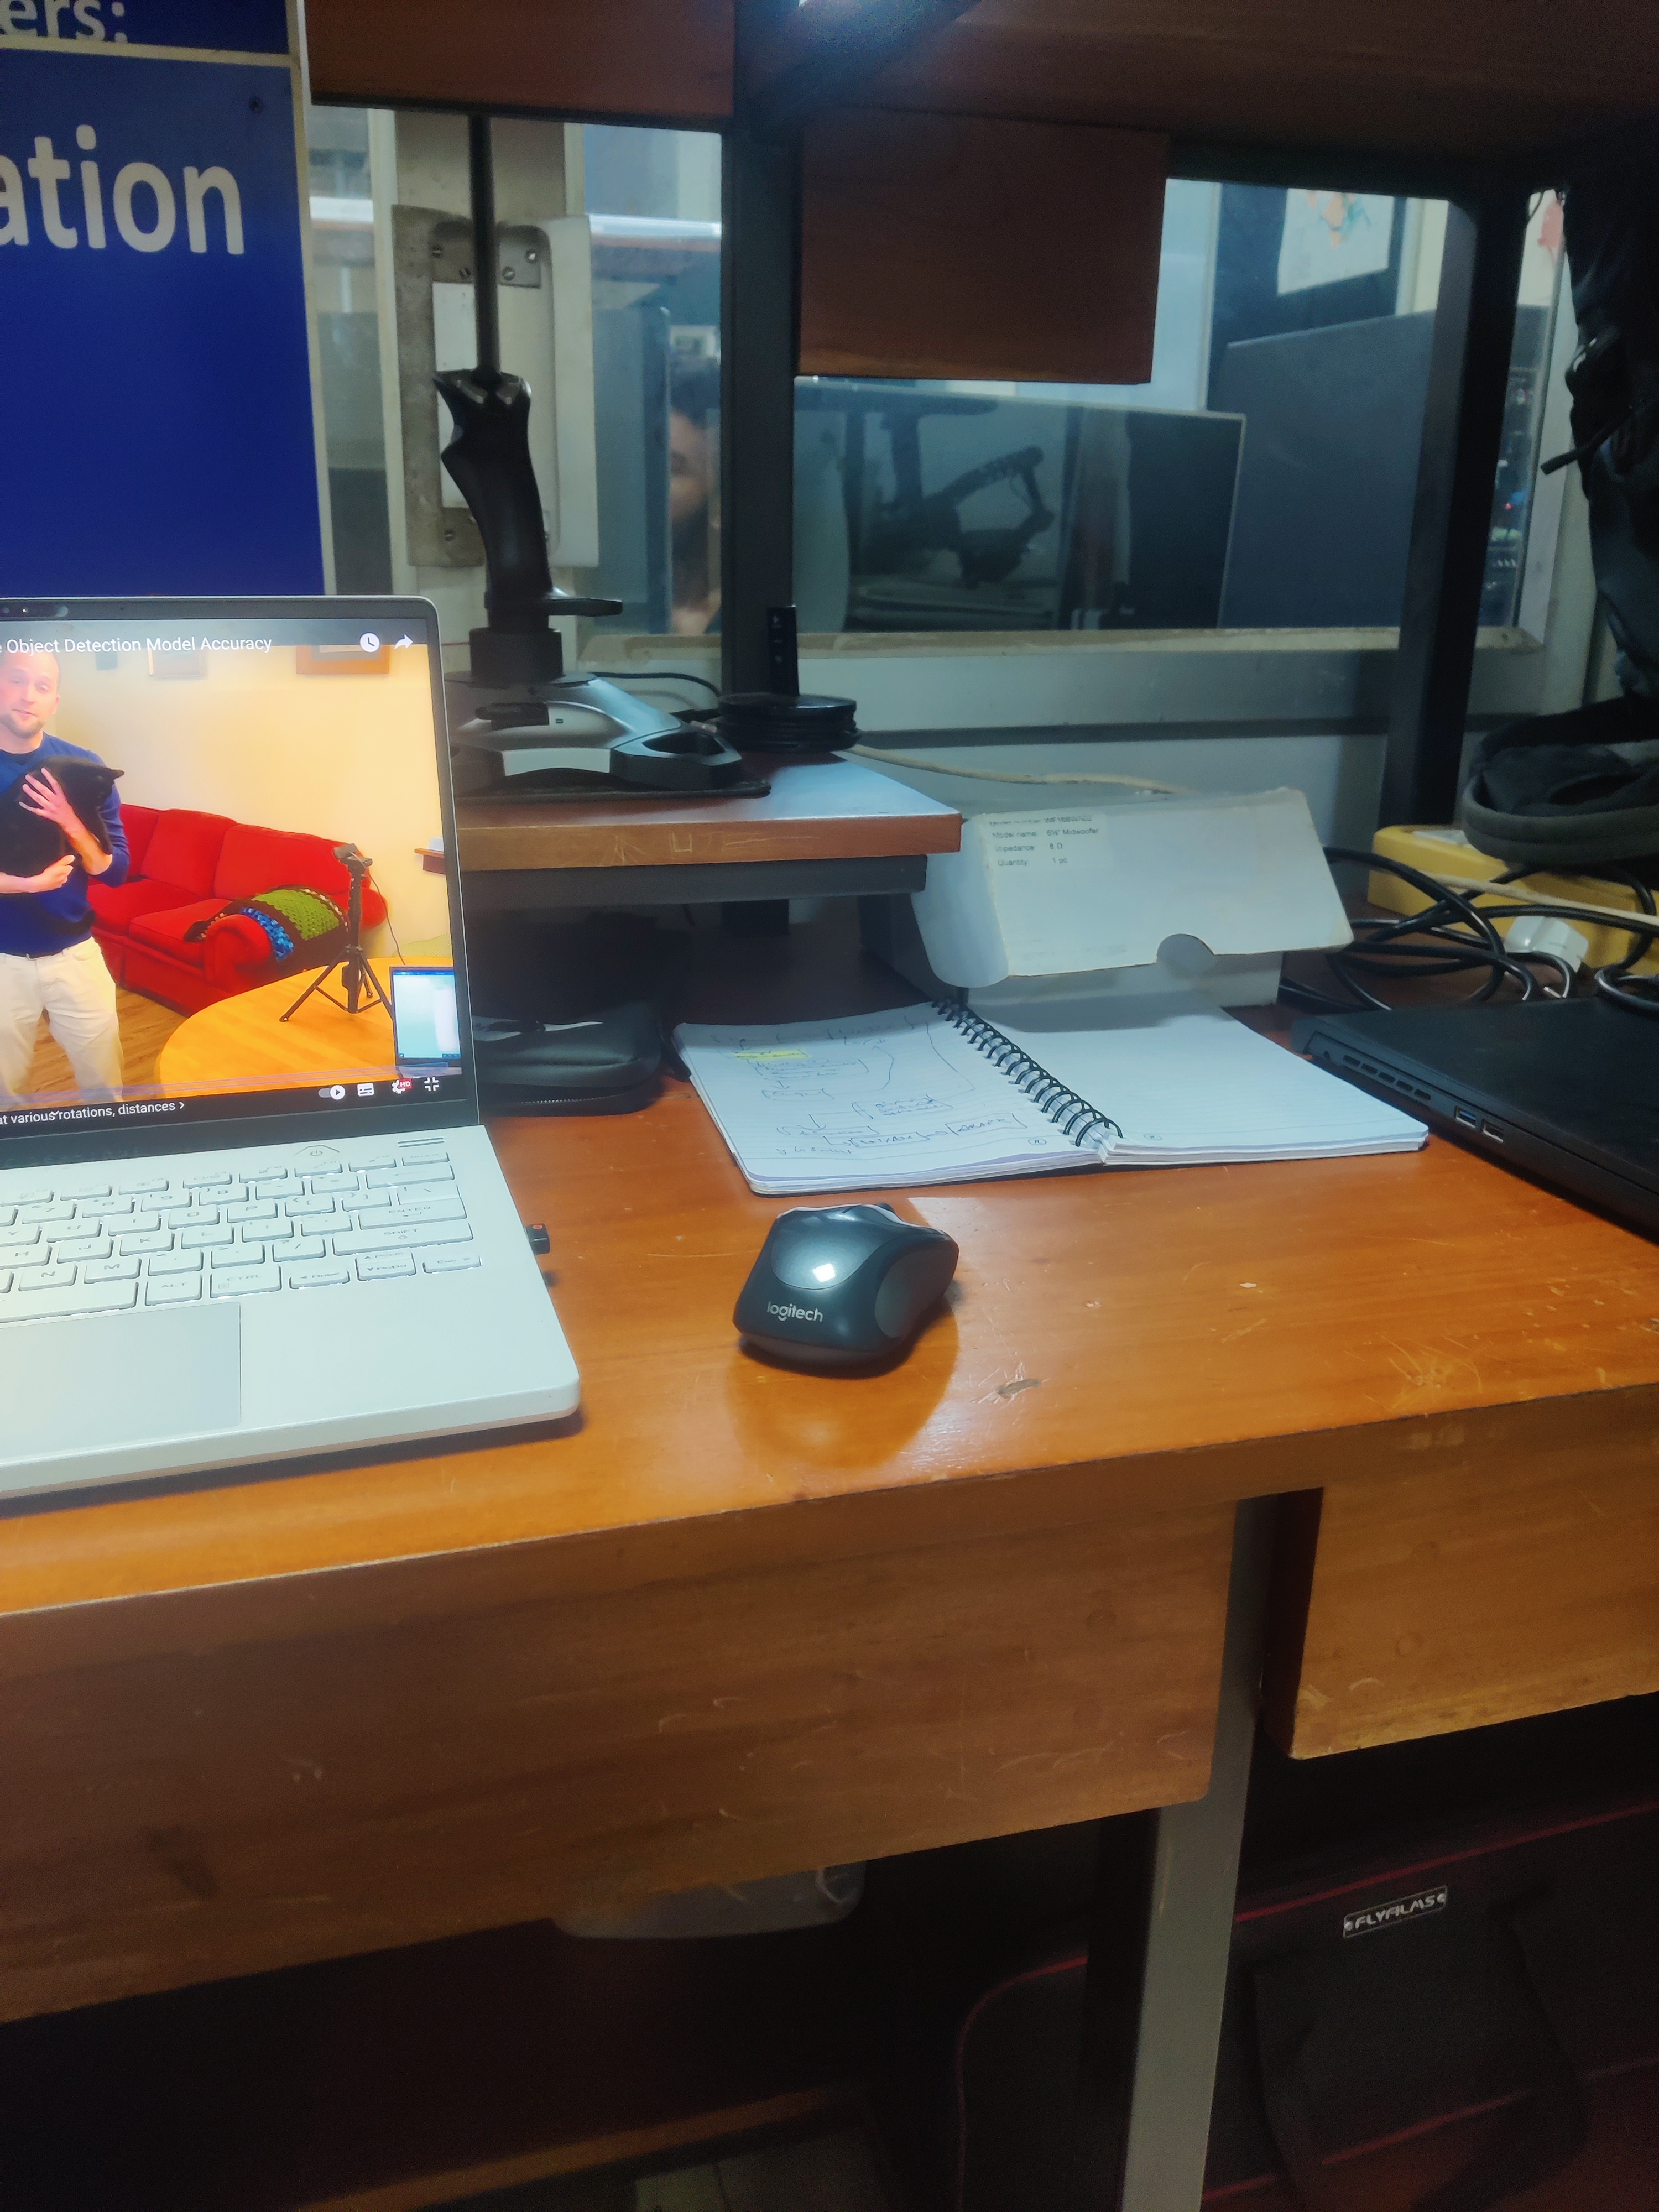logitechMouse: (727, 1197, 967, 1383)
